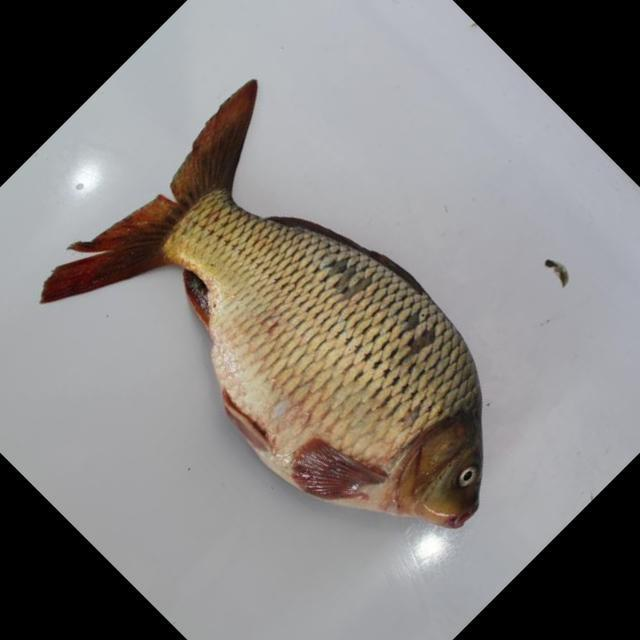CommonCarp: (40, 82, 519, 538)
